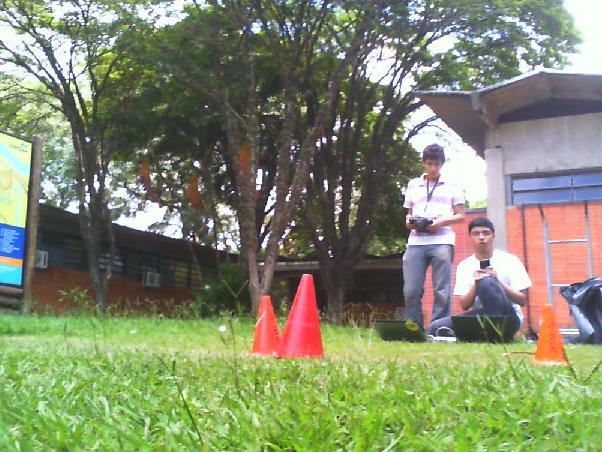0 cone: (275, 275, 324, 359), (531, 302, 571, 368), (249, 297, 282, 357)
